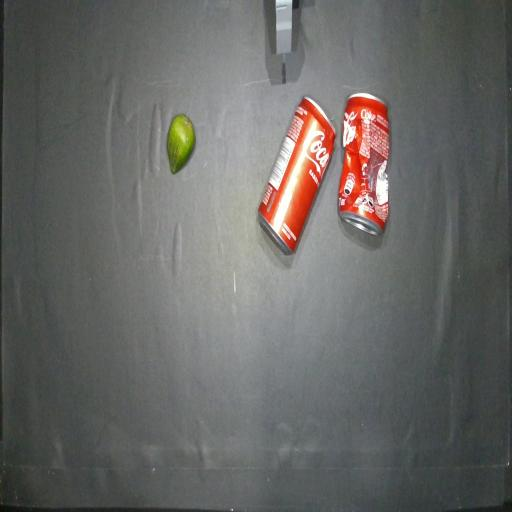higo: (167, 114, 195, 174)
lata: (258, 97, 336, 254)
lata_defectuoso: (338, 93, 389, 235)
